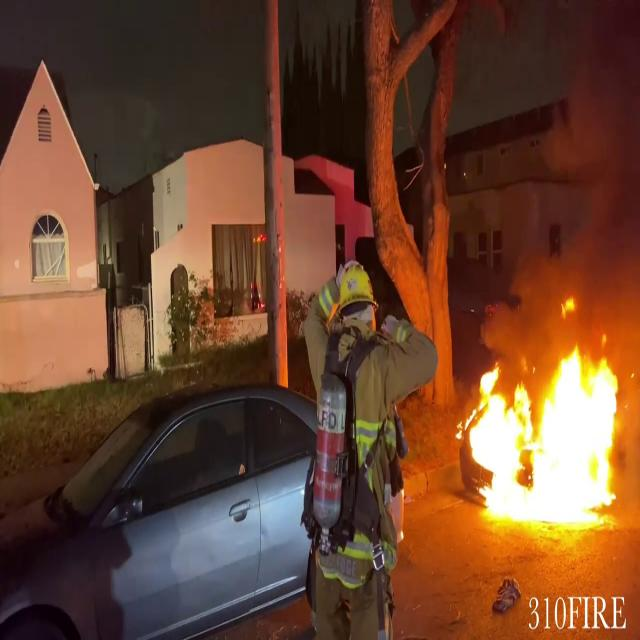Fire: (458, 323, 634, 537)
Smoke: (543, 17, 640, 309)
